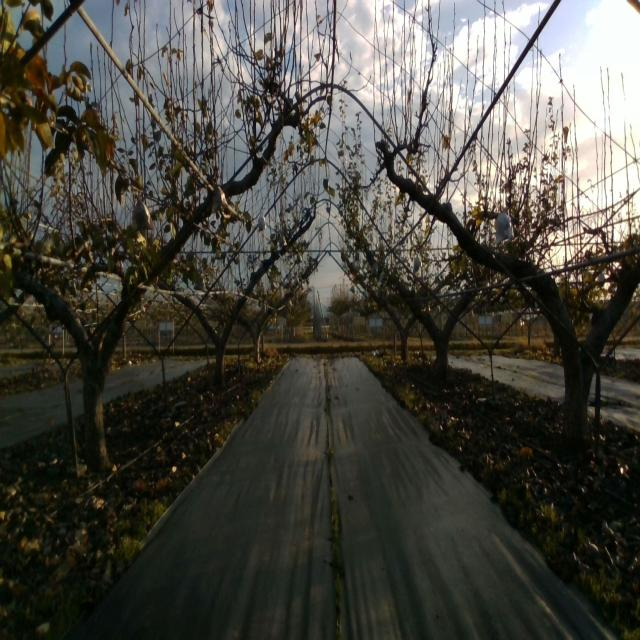pearbags: (132, 194, 155, 231), (495, 212, 514, 246), (212, 185, 229, 214)
